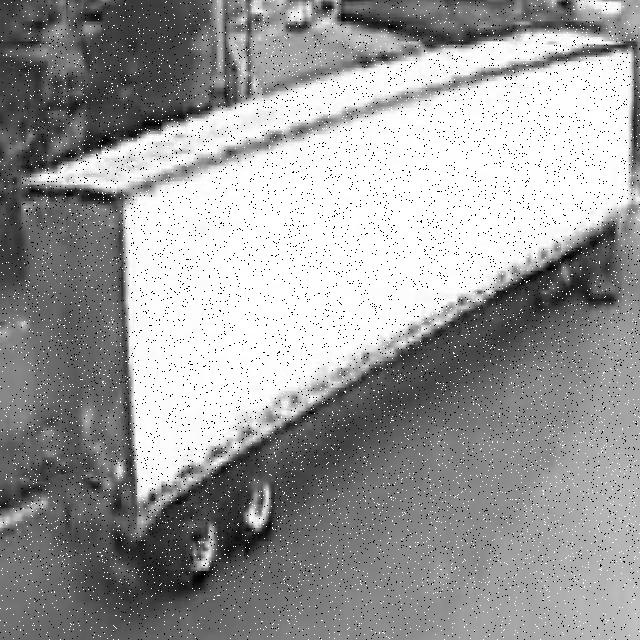Tractor Trailer: (22, 25, 640, 592)
